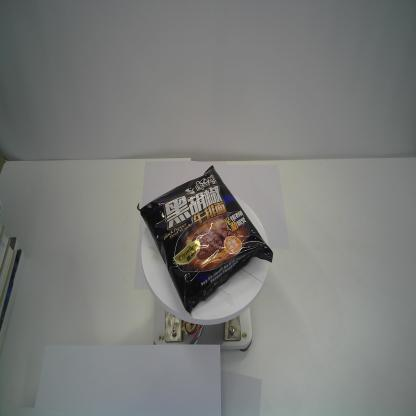Instant Noodles: (135, 163, 274, 320)
